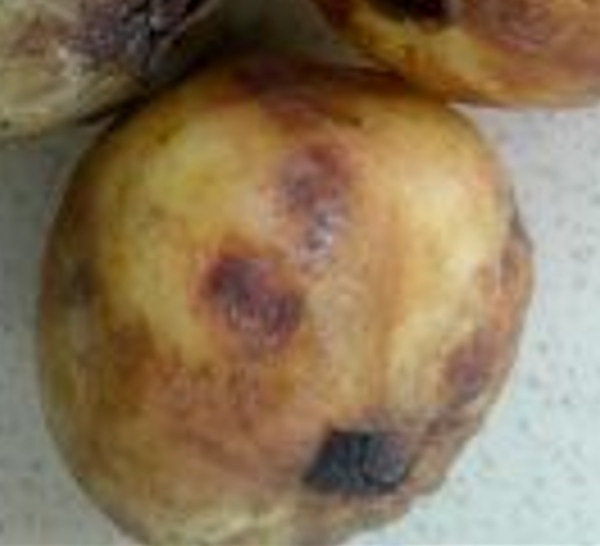guava_C: (36, 53, 536, 546)
